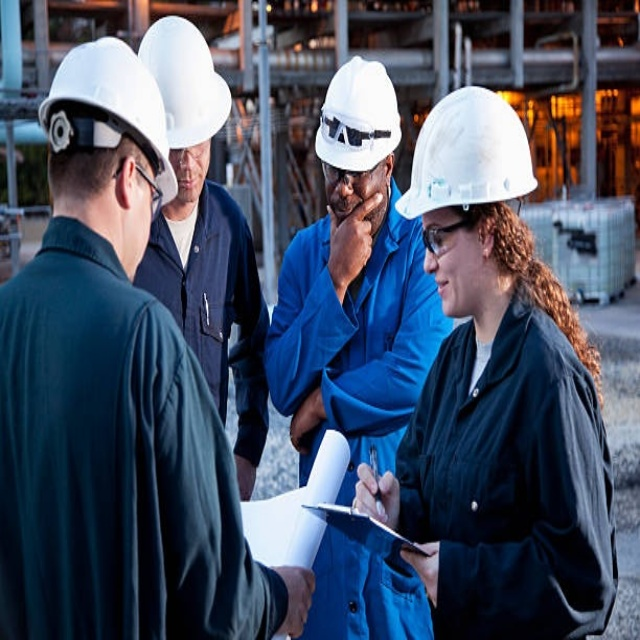Gafas: (318, 155, 387, 185), (132, 158, 163, 224), (421, 220, 471, 257), (172, 135, 211, 166)
Sin_guantes: (325, 187, 383, 275), (267, 561, 317, 638), (353, 462, 400, 531), (396, 539, 440, 608)
Sin_mascara: (432, 268, 464, 323), (176, 173, 204, 202), (329, 196, 350, 218)
